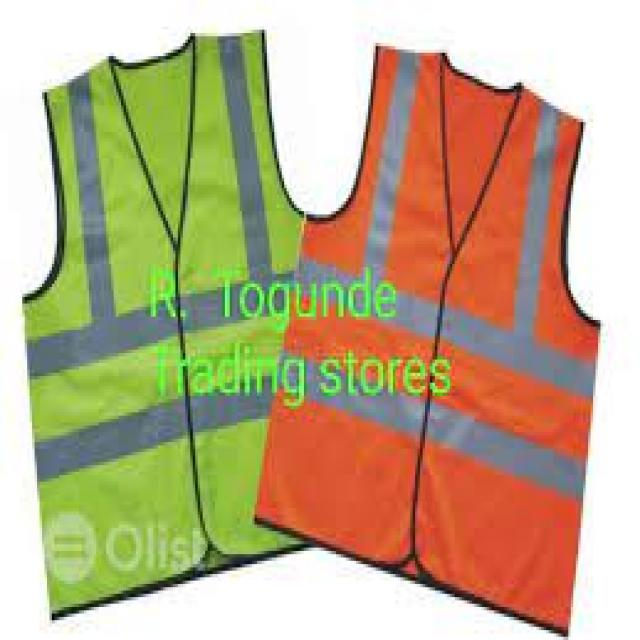Reflective-Jacket: (250, 19, 601, 637), (1, 11, 315, 640)
